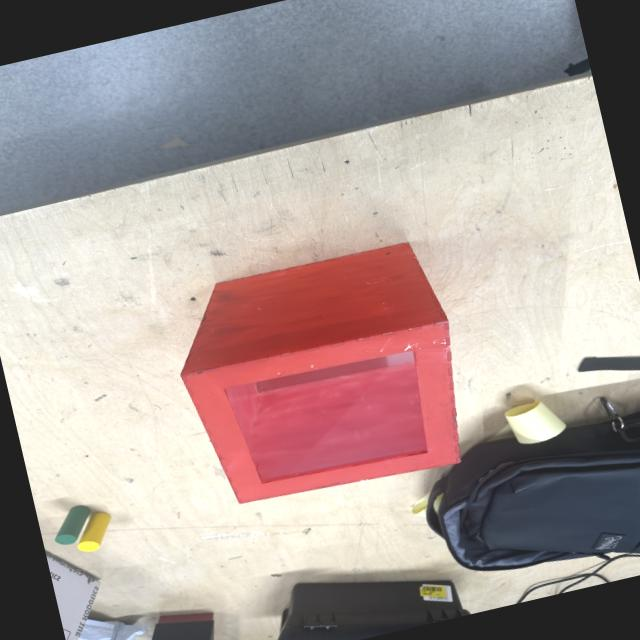red_bin: (159, 234, 481, 520)
